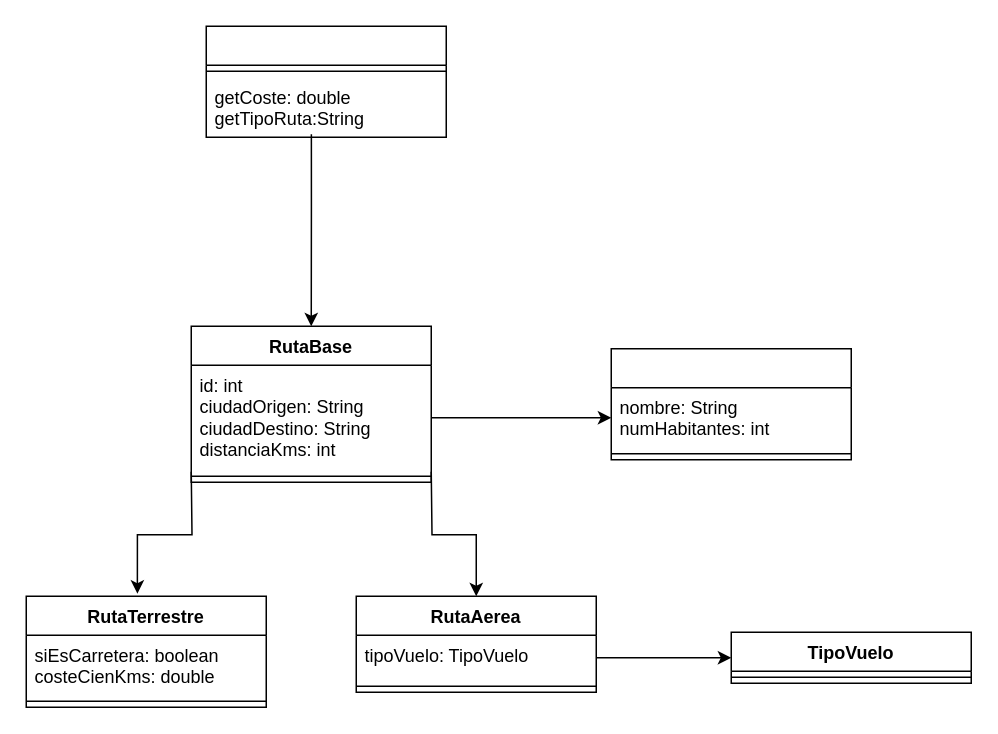
This 998x734 diagram has some shape labels left out. The box of each missing label's shape, as (x1, y1, x2, y2) in pixels:
Ciudad: (610, 347, 851, 460)
IRuta: (205, 25, 446, 137)
